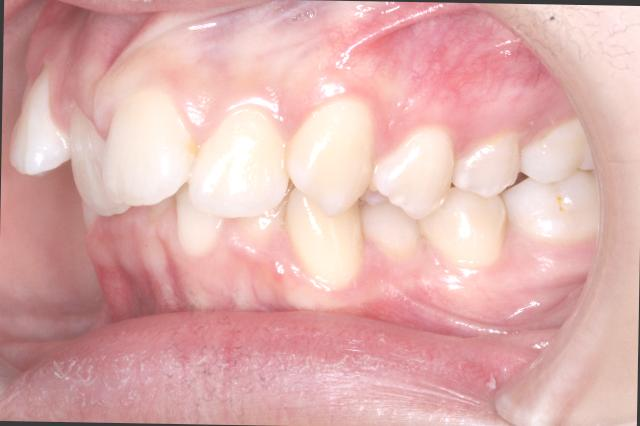canine class II 1/2: (267, 89, 424, 294)
molar class I: (502, 110, 603, 244)
